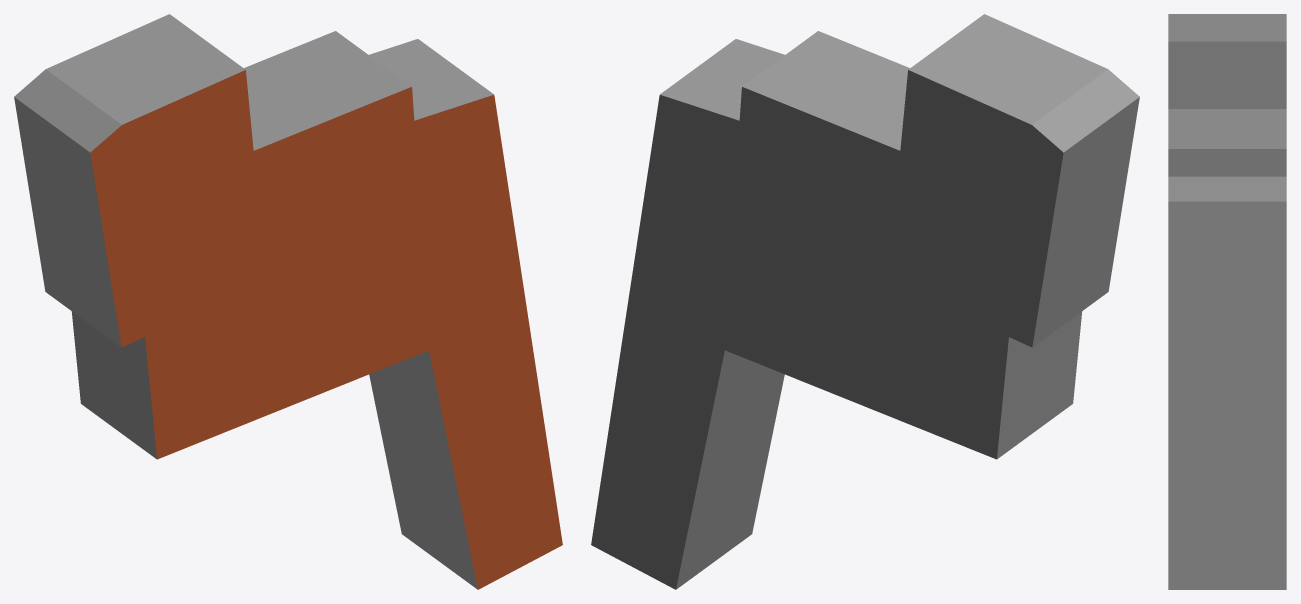
Rendered from construction_6971_assumed_A_Casa_h6m.obj.
3 views of the same model, side by side, from view 1: azimuth 30°, elevation 25°; view 2: azimuth 150°, elevation 25°; view 3: azimuth 270°, elevation 25° (orthographic). The views are drawn at different scales.
Parts seen in each view (by area): view 1: construction_6971_assumed_A_Casa; view 2: construction_6971_assumed_A_Casa; view 3: construction_6971_assumed_A_Casa.
Boxes of the visible parts, left/top/right/bottom form: construction_6971_assumed_A_Casa: left=14, top=14, right=562, bottom=589; construction_6971_assumed_A_Casa: left=591, top=14, right=1139, bottom=589; construction_6971_assumed_A_Casa: left=1168, top=14, right=1286, bottom=589.
Size of the model in its own units: 21.46 by 25.03 by 6.
